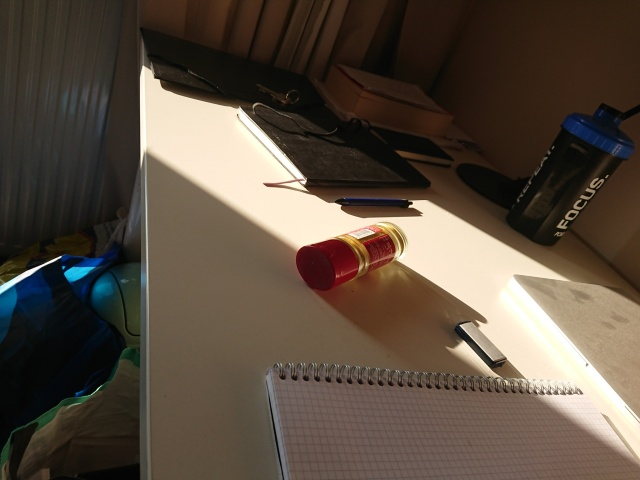Kotanyi Curry Spices Mix 70g: (293, 220, 409, 293)
